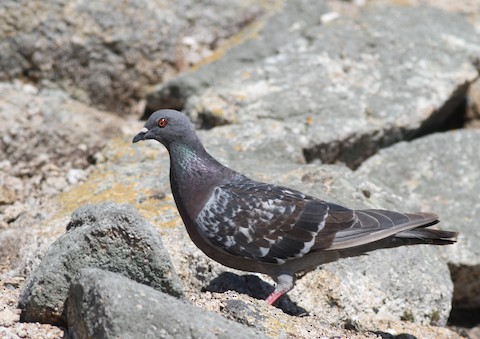pigeon: (133, 108, 460, 315)
